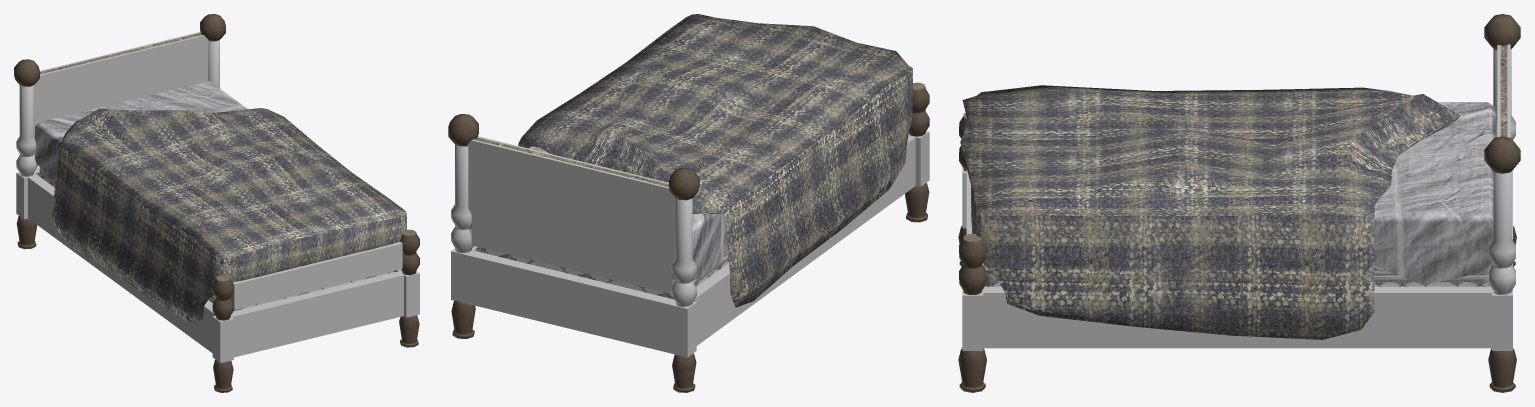
Rendered from BedATwinBlanket.fbx.
The picture shows the model from 3 angles, left to right: view 1: azimuth 30°, elevation 25°; view 2: azimuth 150°, elevation 25°; view 3: azimuth 270°, elevation 25°; orthographic projection. The views are drawn at different scales.
Parts seen in each view (by area): view 1: BedATwinBlanket; view 2: BedATwinBlanket; view 3: BedATwinBlanket.
Boxes of the visible parts, x1=… form: BedATwinBlanket: x1=14, y1=14, x2=419, y2=392; BedATwinBlanket: x1=448, y1=14, x2=929, y2=392; BedATwinBlanket: x1=958, y1=14, x2=1520, y2=392.
Size of the model in its own units: 149 by 120 by 246.
